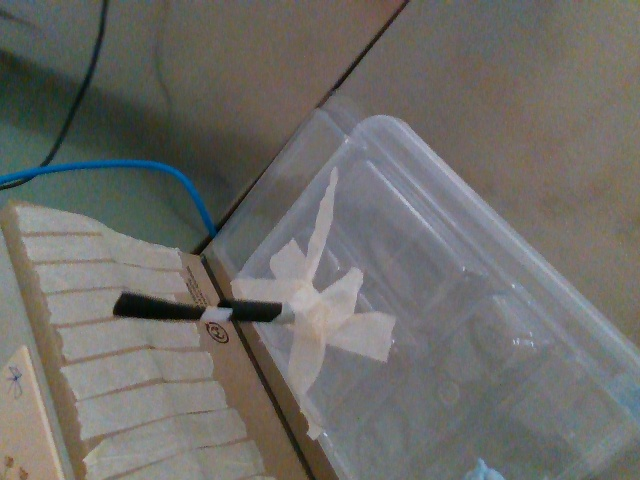test_strip: (113, 288, 228, 321)
